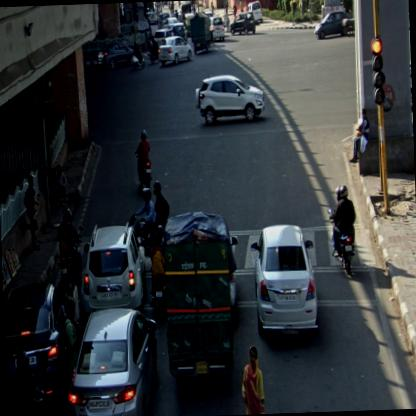car: (65, 307, 161, 415), (3, 282, 71, 415), (249, 223, 320, 346), (80, 220, 147, 312), (195, 73, 266, 128), (98, 40, 134, 72), (158, 36, 193, 66), (314, 11, 350, 40), (229, 12, 256, 36), (245, 0, 264, 24), (209, 16, 225, 43), (172, 22, 188, 46), (162, 16, 178, 36), (152, 2, 163, 16)
motorcycle: (325, 184, 358, 278), (130, 179, 171, 252), (56, 208, 86, 297), (134, 128, 153, 194), (150, 237, 166, 315), (147, 34, 159, 66), (130, 42, 144, 69)
truck: (162, 210, 233, 390), (190, 11, 212, 56)
